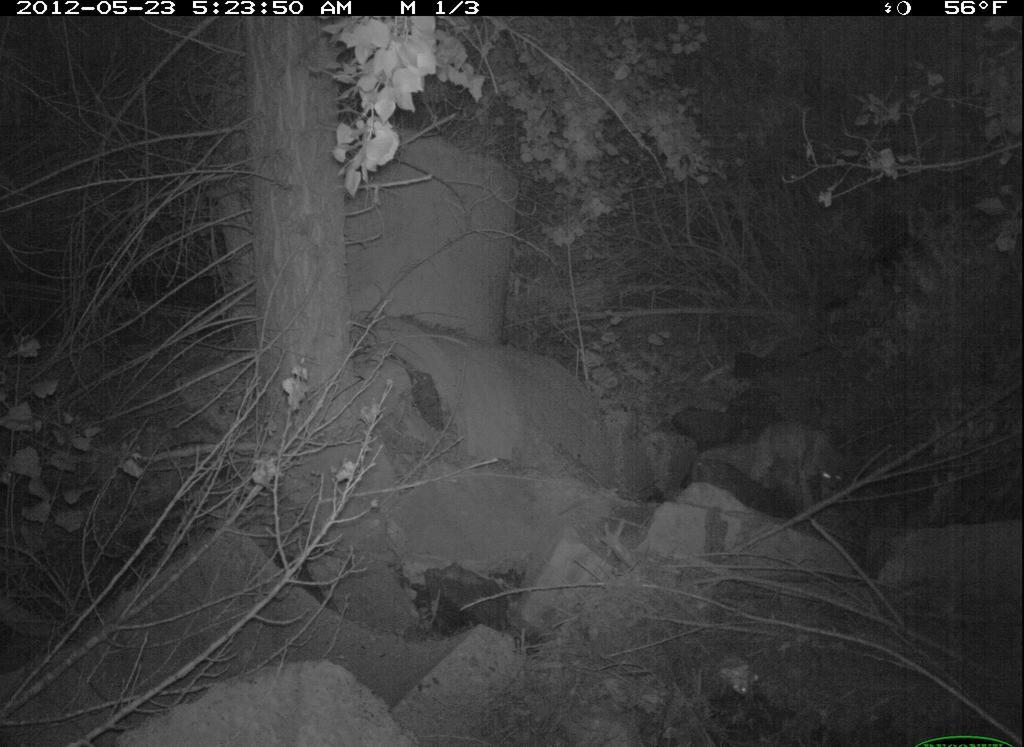bobcat: (740, 409, 859, 513)
